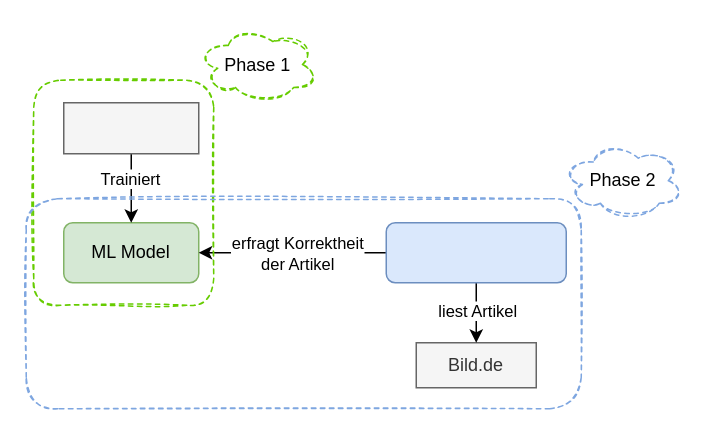
The diagram is 710 pixels wide and 435 high, and some of its shapes have lost their labels. Each missing label, with the centre of its shape:
Datensatz: (130,127)
Hauptkomponente: (475,252)
